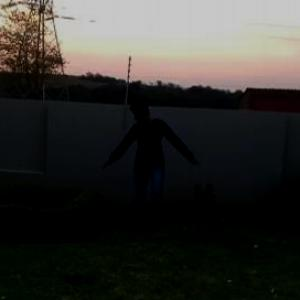land: (99, 102, 200, 242)
